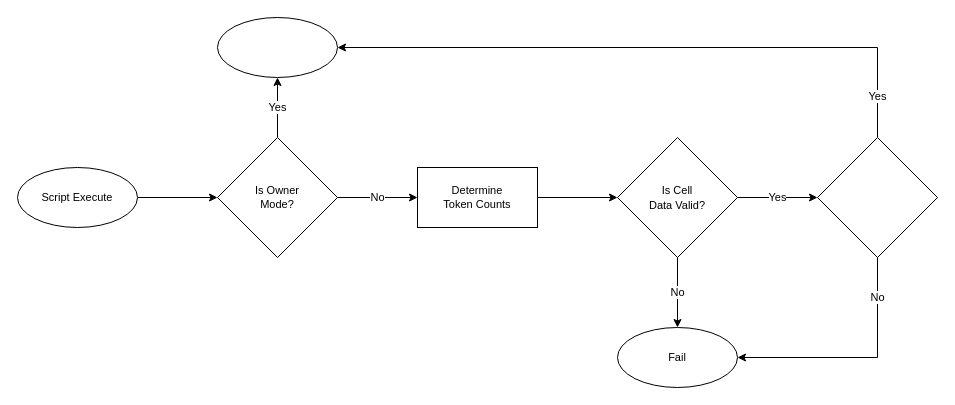
Some shapes in this 955 by 405 pixel diagram are drawn without their labels. The centre of each missing label's shape, as x and y in pixels:
"Input Tokens >= Output Tokens?" belongs at (877,197).
"Success" belongs at (277,47).
